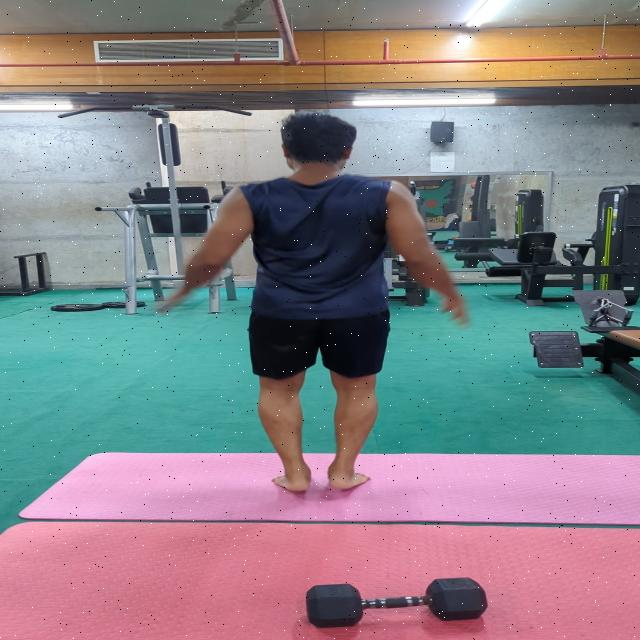Normal_JumpingJacks: (134, 83, 522, 520)
